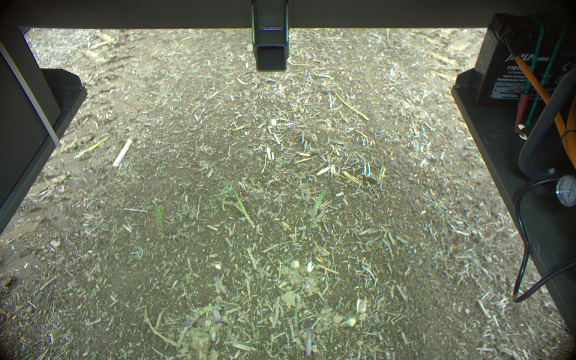aspa: (231, 185, 256, 231), (179, 303, 223, 324), (311, 180, 332, 218), (211, 270, 229, 299), (291, 294, 301, 340), (305, 320, 313, 358), (208, 327, 217, 346)
